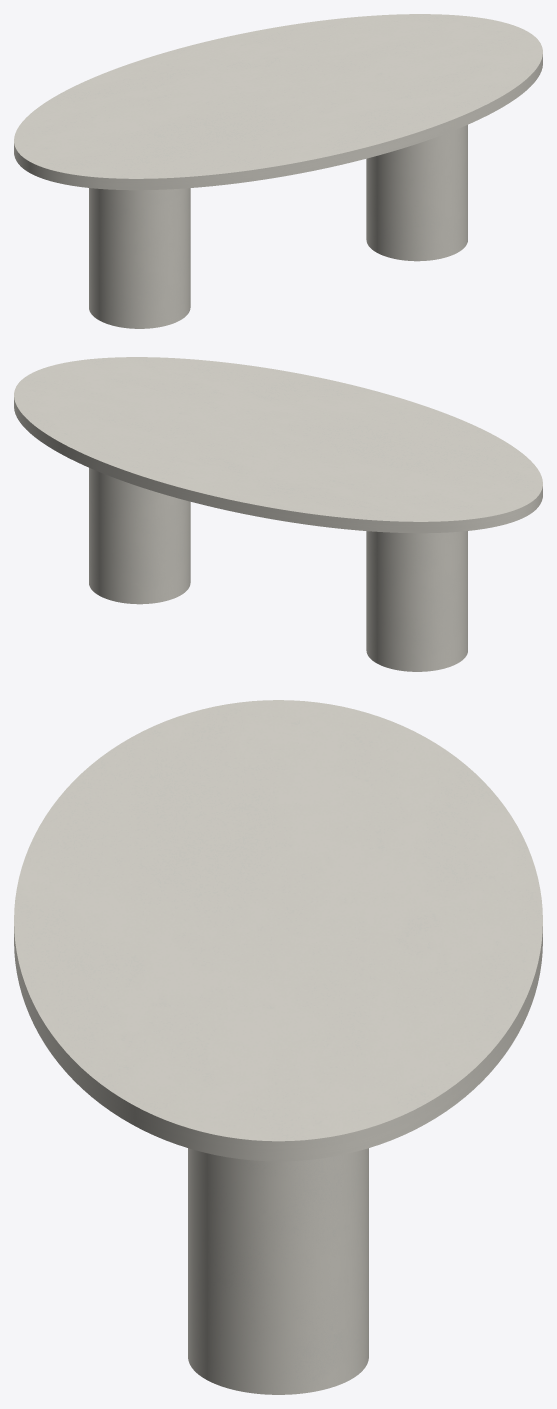
Rendered from pale_ellips_standard_stream.glb.
3 views of the same model, one above another, from view 1: azimuth 30°, elevation 25°; view 2: azimuth 150°, elevation 25°; view 3: azimuth 270°, elevation 25° (orthographic). The views are drawn at different scales.
Visible parts, largest first — view 1: standard_ellips, stream; view 2: standard_ellips, stream; view 3: standard_ellips, stream.
Part boxes in pixels (<box>): standard_ellips: <box>14,14,542,190</box>; stream: <box>89,125,467,328</box>; standard_ellips: <box>14,357,542,533</box>; stream: <box>89,468,467,671</box>; standard_ellips: <box>14,700,542,1161</box>; stream: <box>188,1148,368,1394</box>.
Bounding box in the file's own units: 7.5 × 2.5 × 3.8.
Materials: 1 (1 with a texture image).
